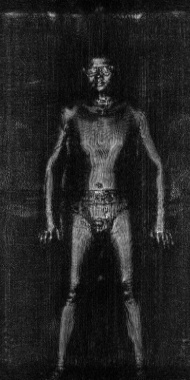gun: (170, 175, 181, 207)
